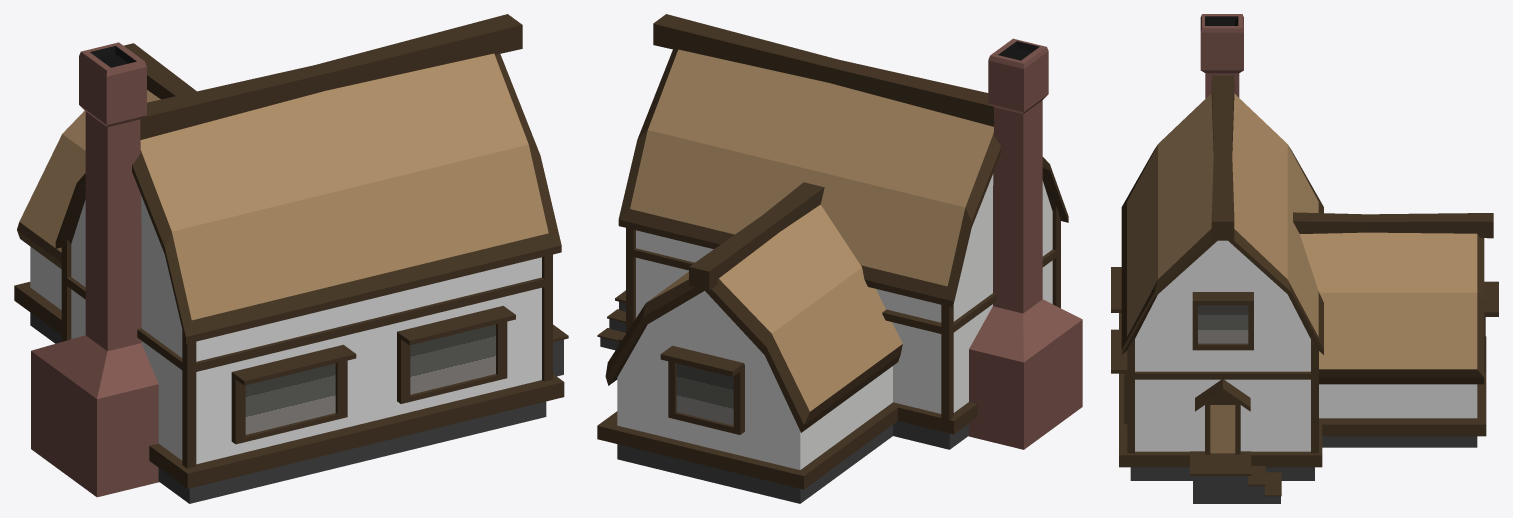
Rendered from House1.fbx.
3 renders of one model, left to right at view 1: azimuth 30°, elevation 25°; view 2: azimuth 150°, elevation 25°; view 3: azimuth 270°, elevation 25°, orthographic. The views are drawn at different scales.
Parts seen in each view (by area): view 1: House_Level_3; view 2: House_Level_3; view 3: House_Level_3.
Boxes of the visible parts, box(x1,y1,x2,y2) form: House_Level_3: box(14, 14, 568, 503); House_Level_3: box(597, 14, 1082, 503); House_Level_3: box(1111, 14, 1498, 503).
Size of the model in its own units: 1353 by 1106 by 1220.
